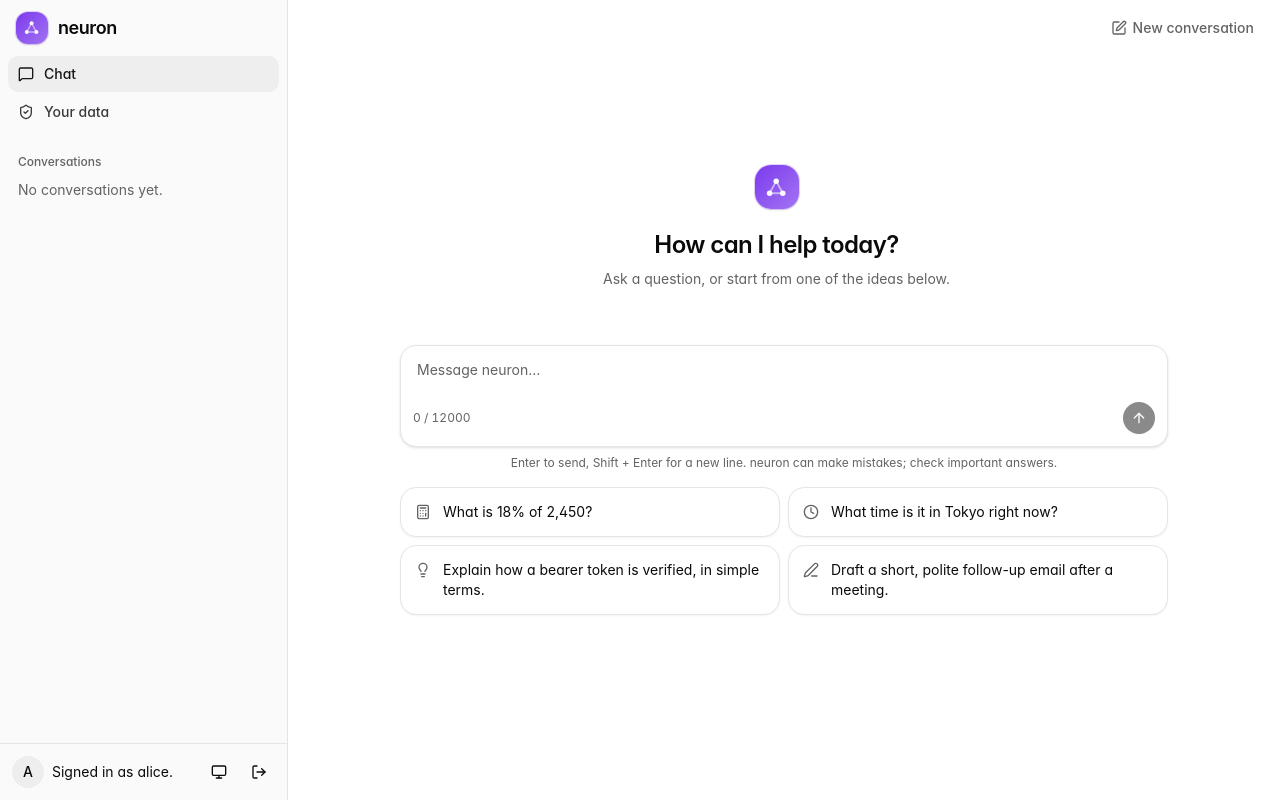
it: rating an answer › offers none while the answer is still arriving
Click the text box labelled "Message".
click(784, 374)  # box [401, 346, 1167, 402]
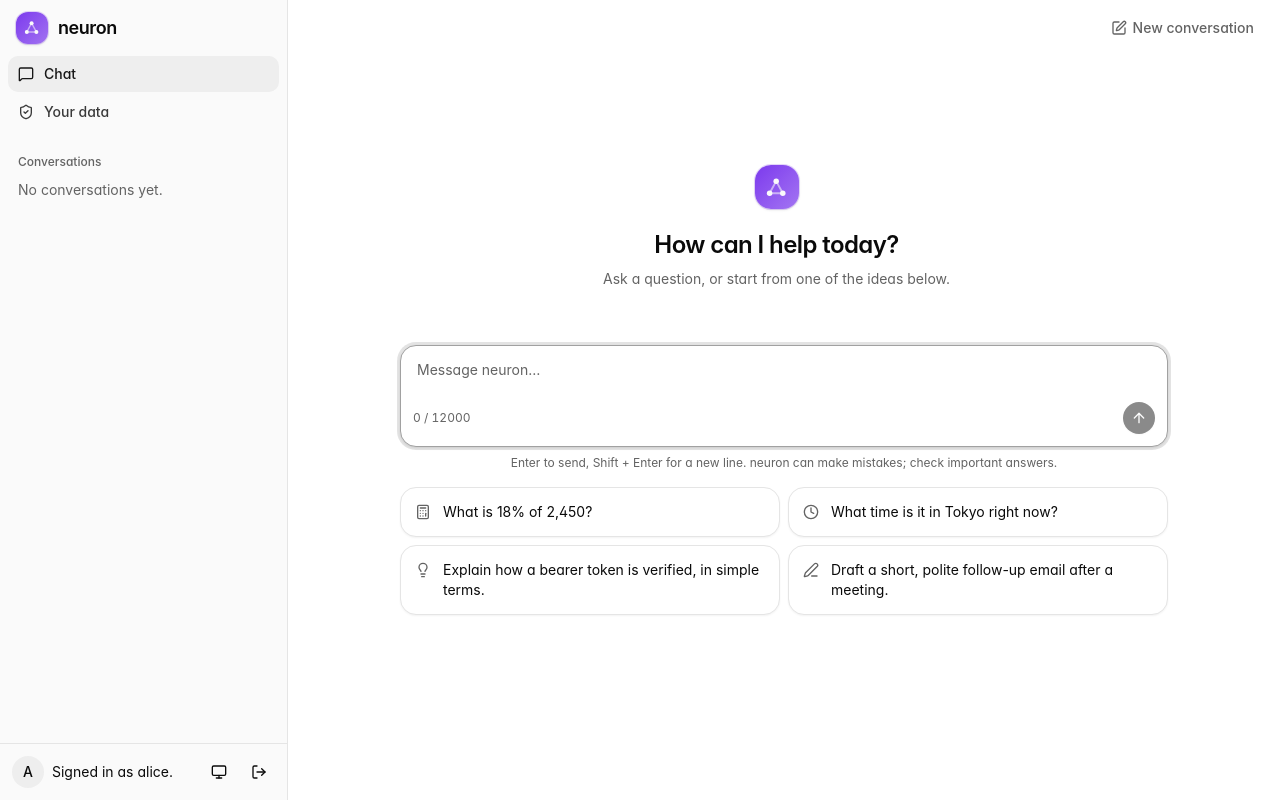
Type keys "hello"
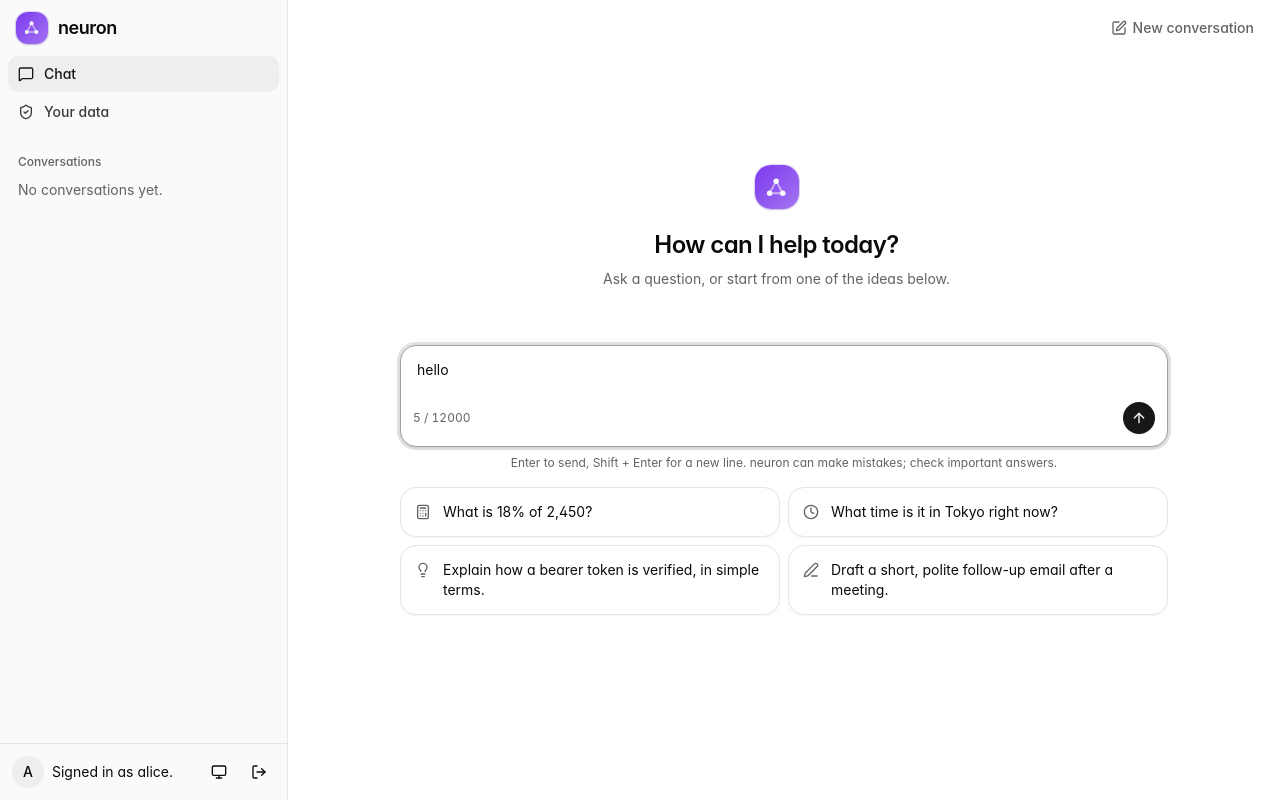
Click the button named "Send".
click(1139, 418)  # box [1123, 402, 1155, 434]
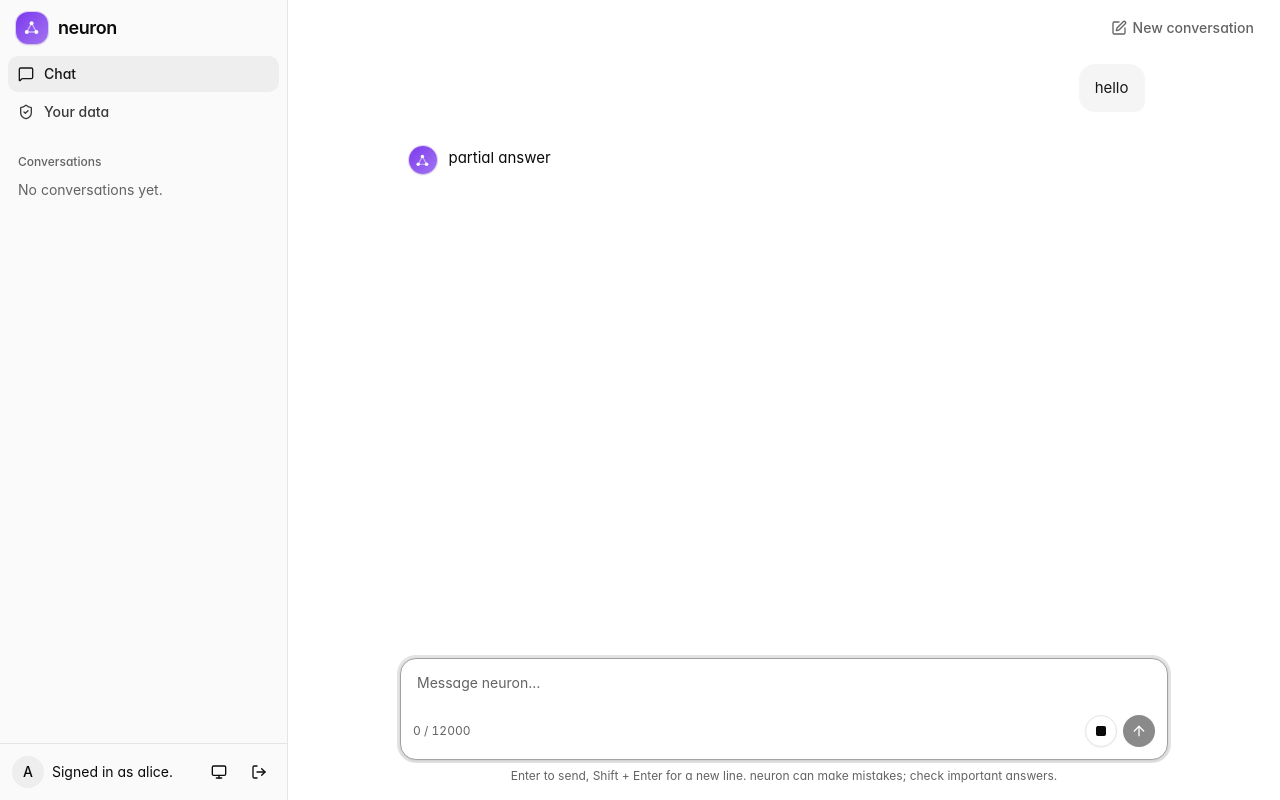
Result: the text "partial answer" is shown at [448, 148, 551, 167]
